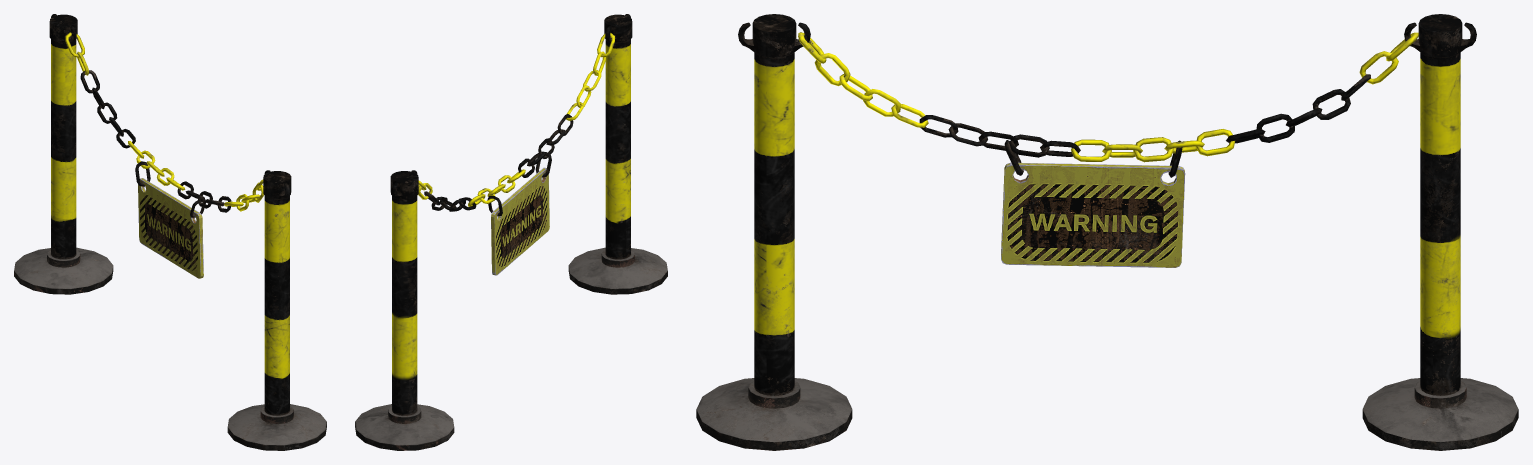
Rendered from Stop_chain_pole.obj.
3 renders of one model, left to right at view 1: azimuth 30°, elevation 25°; view 2: azimuth 150°, elevation 25°; view 3: azimuth 270°, elevation 25°, orthographic. The views are drawn at different scales.
Parts seen in each view (by area): view 1: Pole_Cube.005, Base_Cube.008, Sign_Cube.001, ChainBlack_Cube.002, ChainYellow_Cube.010; view 2: Pole_Cube.005, Base_Cube.008, Sign_Cube.001, ChainYellow_Cube.010, ChainBlack_Cube.002; view 3: Pole_Cube.005, Sign_Cube.001, Base_Cube.008, ChainYellow_Cube.010, ChainBlack_Cube.002.
Boxes of the visible parts, x1,y1,x2,y2 form: Pole_Cube.005: (49, 14, 291, 415); Base_Cube.008: (14, 247, 326, 450); Sign_Cube.001: (138, 178, 203, 278); ChainBlack_Cube.002: (80, 70, 231, 217); ChainYellow_Cube.010: (65, 32, 263, 211); Pole_Cube.005: (390, 14, 632, 415); Base_Cube.008: (355, 247, 667, 450); Sign_Cube.001: (491, 167, 549, 275); ChainYellow_Cube.010: (418, 33, 614, 206); ChainBlack_Cube.002: (424, 114, 573, 216); Pole_Cube.005: (738, 14, 1476, 395); Sign_Cube.001: (1001, 162, 1185, 267); Base_Cube.008: (696, 378, 1518, 450); ChainYellow_Cube.010: (798, 32, 1418, 162); ChainBlack_Cube.002: (919, 74, 1370, 177).
Bounding box in the file's own units: 0.4738 × 1.32 × 2.5.
Materials: 5 (5 with a texture image).
